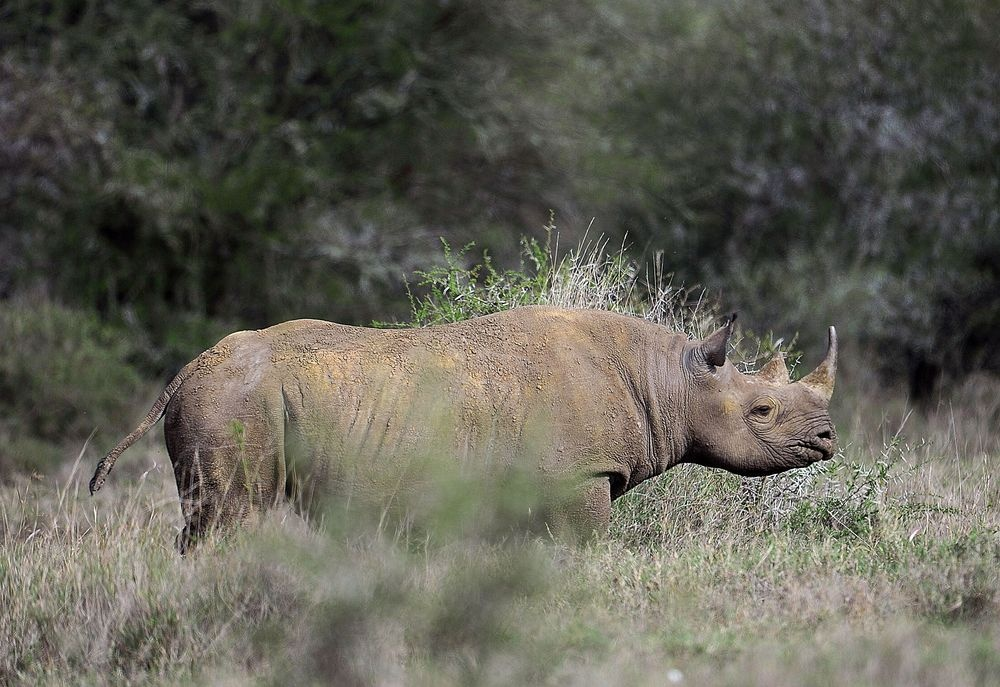rhino: (85, 302, 846, 578)
